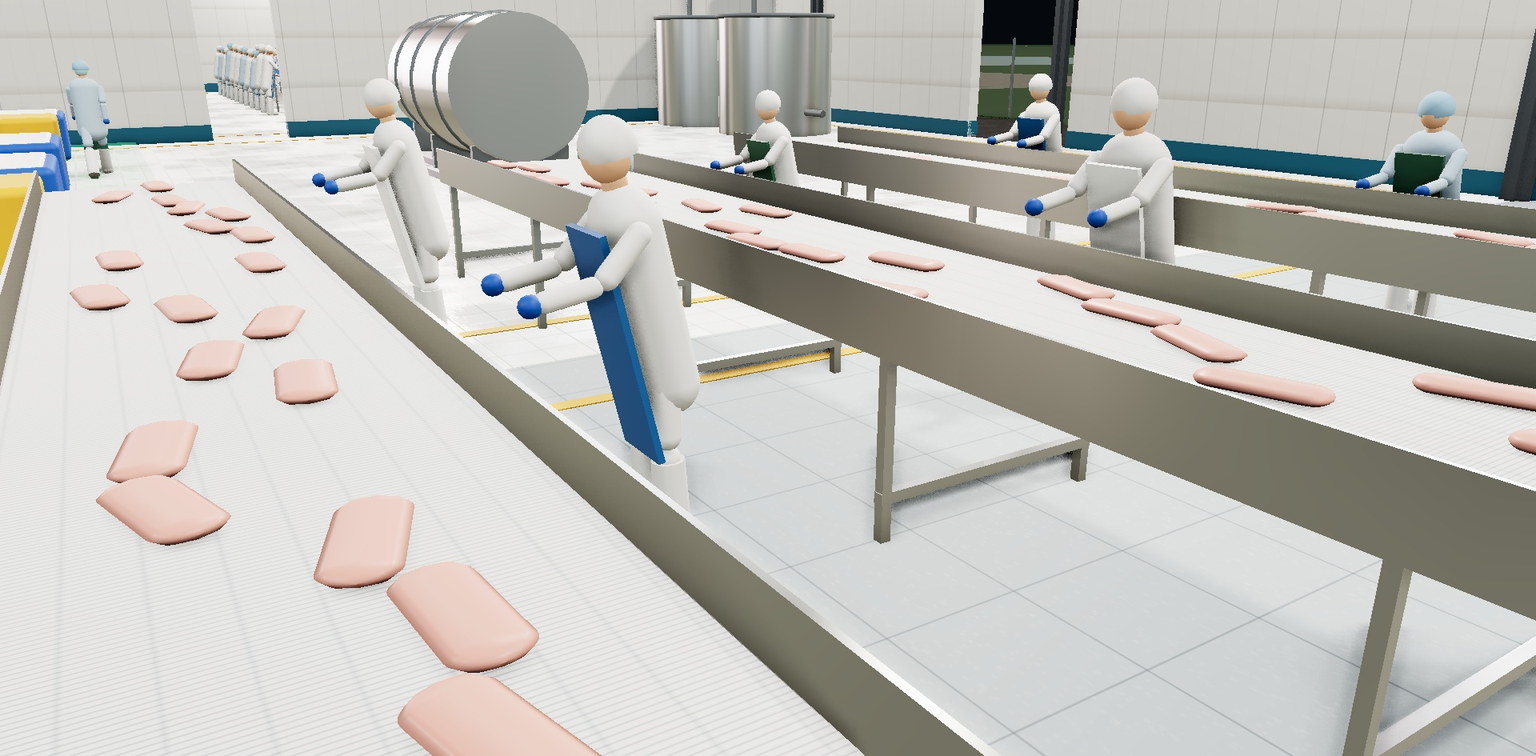apron: (565, 218, 666, 477), (1069, 159, 1170, 356), (1371, 150, 1461, 290), (362, 142, 427, 295), (746, 138, 790, 252), (1010, 116, 1059, 217), (72, 86, 109, 150), (265, 61, 282, 99), (258, 60, 275, 97), (253, 64, 268, 96), (232, 57, 247, 88), (248, 62, 262, 94), (242, 61, 256, 92), (237, 59, 251, 90), (228, 56, 242, 87), (271, 60, 283, 87), (221, 58, 233, 85), (261, 57, 273, 84), (225, 60, 237, 86), (266, 59, 278, 85), (217, 57, 229, 83), (256, 56, 268, 82)
glove: (511, 288, 550, 326), (475, 268, 511, 302), (1081, 205, 1113, 232), (1020, 195, 1049, 220), (1410, 183, 1434, 201), (321, 178, 343, 197), (1351, 177, 1374, 194), (309, 171, 330, 189), (731, 163, 747, 178), (708, 159, 723, 173), (984, 135, 999, 147), (1014, 138, 1029, 150), (71, 113, 79, 122), (103, 118, 110, 125), (286, 68, 291, 72), (284, 68, 289, 72), (279, 67, 284, 71), (277, 66, 282, 70), (260, 66, 264, 70), (258, 66, 262, 70), (266, 68, 271, 71), (264, 68, 269, 71), (254, 65, 259, 68), (248, 63, 253, 66), (272, 70, 276, 73), (270, 70, 274, 73), (253, 65, 257, 68), (250, 63, 254, 66), (247, 61, 251, 64), (245, 61, 249, 64), (261, 65, 265, 68), (263, 65, 267, 68), (238, 64, 242, 67), (258, 64, 262, 67), (236, 63, 240, 66), (235, 63, 239, 66), (252, 62, 256, 65), (231, 61, 235, 64), (240, 65, 243, 68), (257, 64, 260, 67), (233, 61, 236, 64), (249, 61, 252, 64), (253, 63, 257, 65)
hairnet: (560, 105, 650, 169), (1096, 72, 1173, 118), (1408, 87, 1467, 120), (353, 74, 406, 109), (748, 86, 787, 113), (1022, 70, 1059, 93), (70, 59, 90, 71), (262, 44, 275, 52), (256, 43, 269, 51), (251, 49, 262, 56), (245, 48, 256, 55), (240, 46, 251, 53), (230, 43, 241, 50), (235, 45, 246, 51), (226, 42, 236, 48), (269, 48, 279, 54), (223, 47, 232, 53), (219, 46, 228, 52), (259, 45, 268, 51), (254, 44, 263, 50), (264, 47, 273, 52), (215, 45, 224, 50)
person: (460, 102, 731, 608), (1311, 253, 1536, 756), (1003, 70, 1229, 454), (296, 72, 473, 369), (1324, 85, 1506, 359), (706, 85, 820, 308), (977, 70, 1088, 266), (59, 59, 122, 182), (251, 44, 297, 116), (245, 43, 290, 114), (236, 48, 276, 109), (242, 49, 281, 111), (221, 43, 260, 102), (217, 42, 256, 101), (231, 46, 269, 106), (226, 44, 264, 104), (207, 44, 241, 96), (259, 48, 293, 99), (211, 46, 245, 97), (215, 47, 248, 99), (254, 46, 287, 98), (249, 45, 282, 96), (245, 44, 277, 95)
